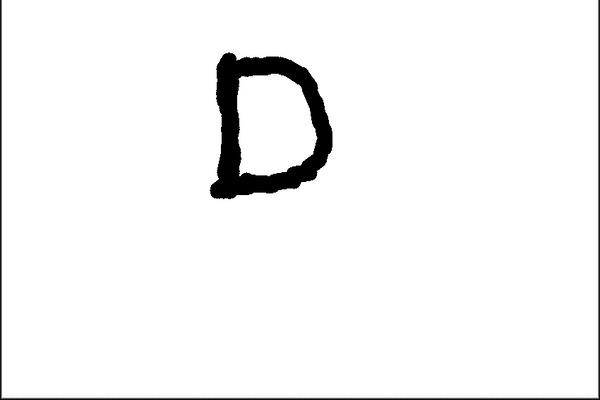D: (202, 47, 342, 210)
